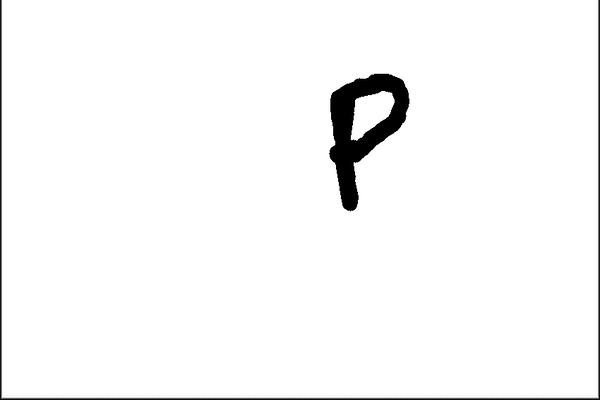P: (314, 67, 418, 220)
